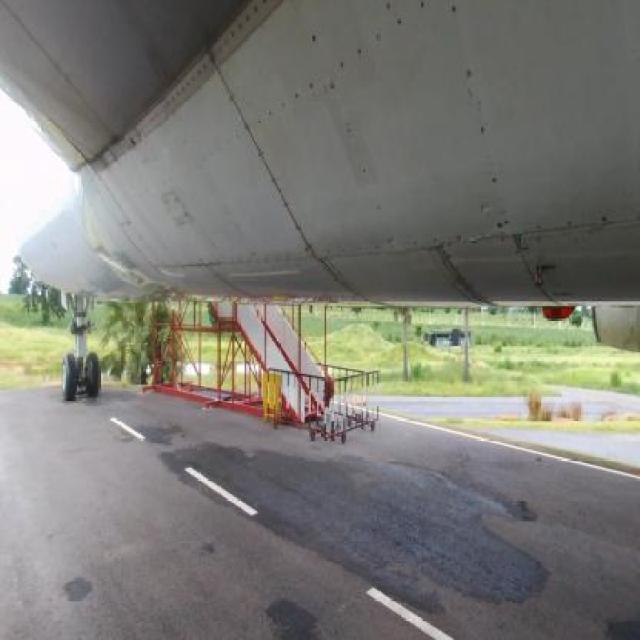Missing-Rivet: (449, 6, 514, 223), (323, 22, 434, 75), (251, 77, 340, 121)
